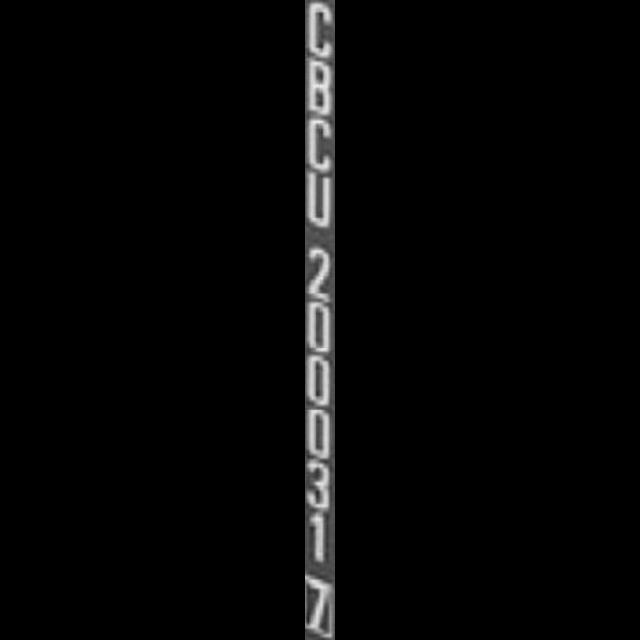0: (305, 351, 335, 409), (305, 299, 335, 355), (305, 406, 335, 462)
1: (305, 511, 335, 569)
2: (305, 240, 335, 306)
3: (305, 456, 335, 514)
7: (305, 566, 335, 640)
b: (305, 57, 335, 116)
c: (305, 111, 335, 173), (305, 1, 335, 62)
u: (305, 168, 335, 230)
